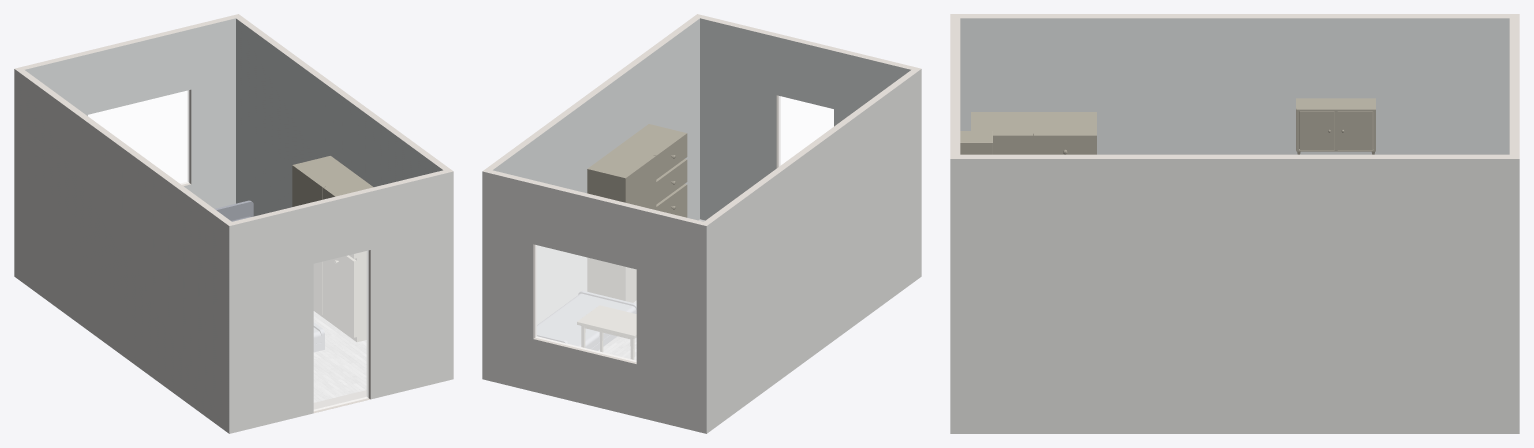
Rendered from maddy.glb.
3 views of the same model, side by side, from view 1: azimuth 30°, elevation 25°; view 2: azimuth 150°, elevation 25°; view 3: azimuth 270°, elevation 25° (orthographic). The views are drawn at different scales.
Visible parts, largest first — view 1: wall_0 (×2), wall_1 (×3), wall_2 (×2), wall_3 (×2), door_0 (×2), window_0 (×2), storage3, floor_Bedroom_0, bed0; view 2: wall_0 (×2), wall_3 (×3), wall_1 (×2), window_0 (×2), wall_2 (×2), storage3, door_0 (×2), bed0, table1, floor_Bedroom_0; view 3: wall_2 (×2), wall_0 (×2), storage0, storage2, wall_1, wall_3, storage1.
Boxes of the visible parts, x1,y1,x2,y2 form: wall_0 (×2): [14, 68, 231, 433]; wall_1 (×3): [229, 170, 453, 433]; wall_2 (×2): [236, 14, 452, 216]; wall_3 (×2): [15, 14, 238, 208]; door_0 (×2): [314, 251, 368, 410]; window_0 (×2): [88, 90, 188, 184]; storage3: [292, 156, 373, 341]; floor_Bedroom_0: [314, 311, 366, 402]; bed0: [215, 200, 253, 221]; wall_0 (×2): [704, 68, 921, 433]; wall_3 (×3): [482, 170, 706, 433]; wall_1 (×2): [697, 14, 920, 220]; window_0 (×2): [535, 245, 636, 361]; wall_2 (×2): [483, 14, 699, 324]; storage3: [587, 124, 687, 302]; door_0 (×2): [779, 96, 833, 166]; bed0: [537, 291, 636, 350]; table1: [577, 305, 636, 359]; floor_Bedroom_0: [598, 219, 704, 359]; wall_2 (×2): [950, 154, 1519, 433]; wall_0 (×2): [951, 14, 1518, 154]; storage0: [971, 112, 1096, 154]; storage2: [1296, 98, 1375, 154]; wall_1: [950, 14, 960, 158]; wall_3: [1509, 14, 1519, 158]; storage1: [960, 131, 992, 154].
Bounding box in the file's own units: 3.47 × 3.07 × 5.75.
21 materials, 1 textured.
